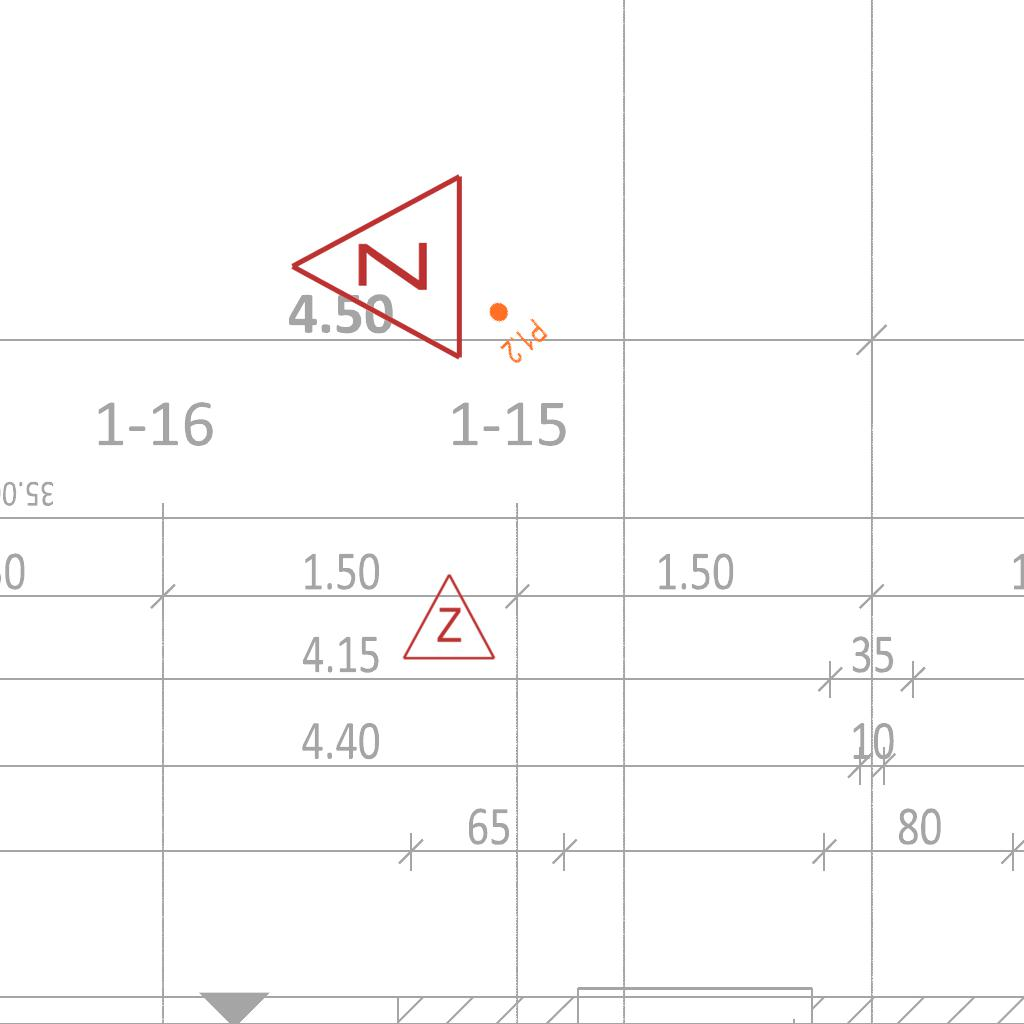Downlight_LED_Einbauleuchten_Flur: (473, 288, 551, 368)
Zimmersignalleuchte: (277, 171, 477, 367), (399, 567, 497, 667)
